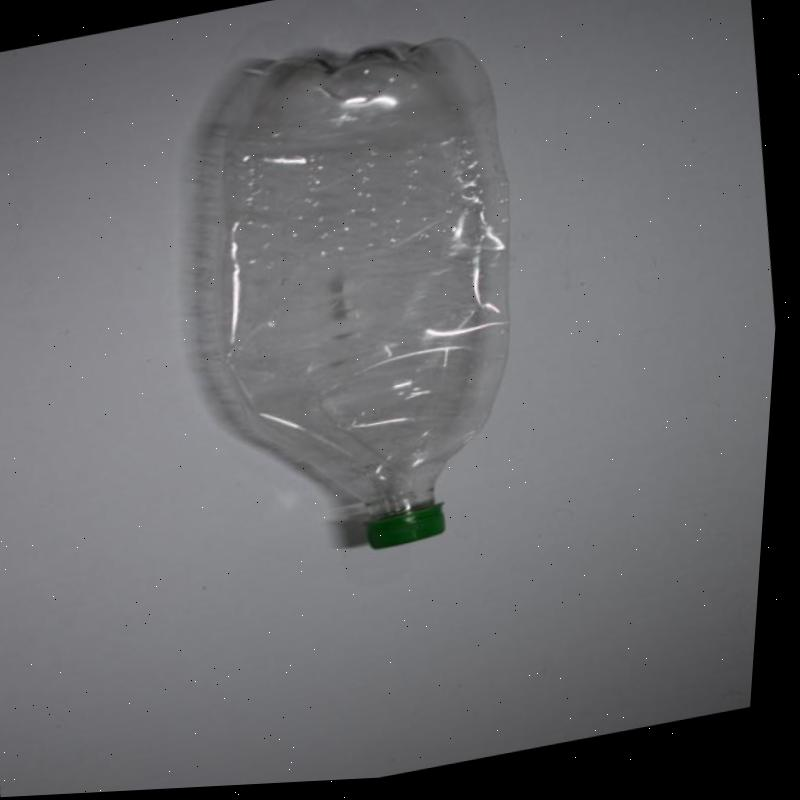botella: (148, 19, 563, 585)
